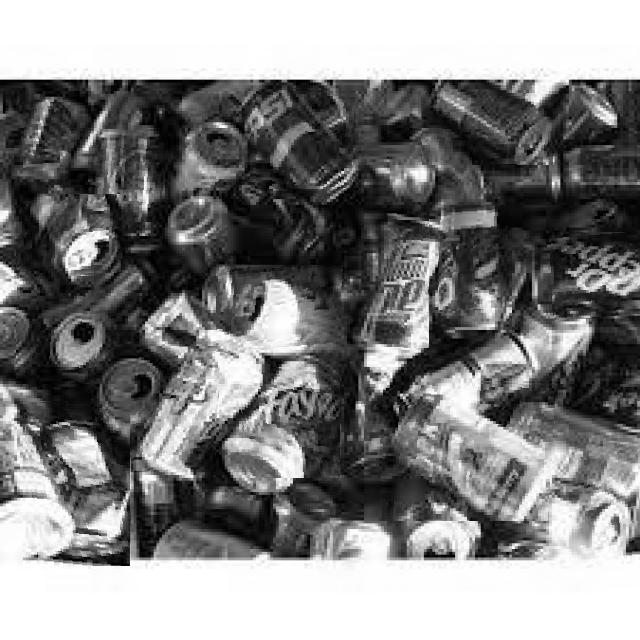Cans: (364, 379, 556, 521), (22, 400, 130, 566), (571, 442, 640, 616), (238, 364, 340, 478), (131, 346, 221, 472), (216, 265, 344, 353), (422, 85, 559, 165), (250, 86, 355, 189), (16, 194, 124, 282), (544, 232, 640, 321), (88, 126, 167, 222), (16, 294, 100, 384), (439, 206, 509, 312), (385, 205, 429, 348), (14, 102, 72, 170), (186, 122, 236, 185)
